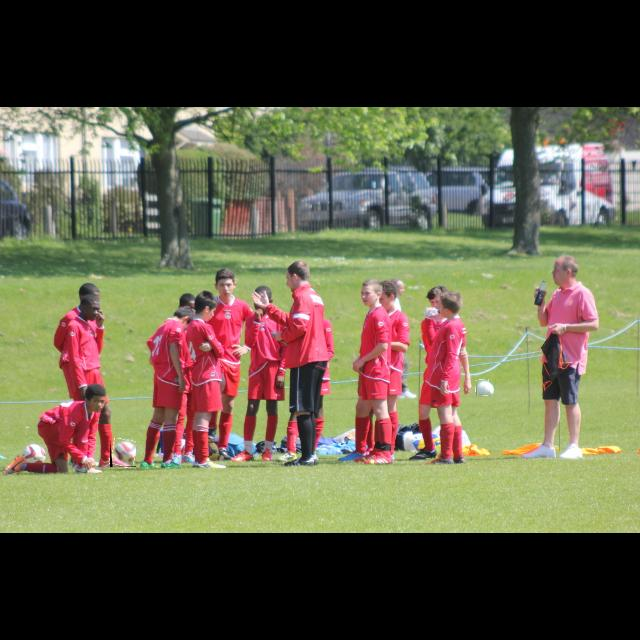Football: (110, 439, 136, 467), (476, 380, 490, 396)
